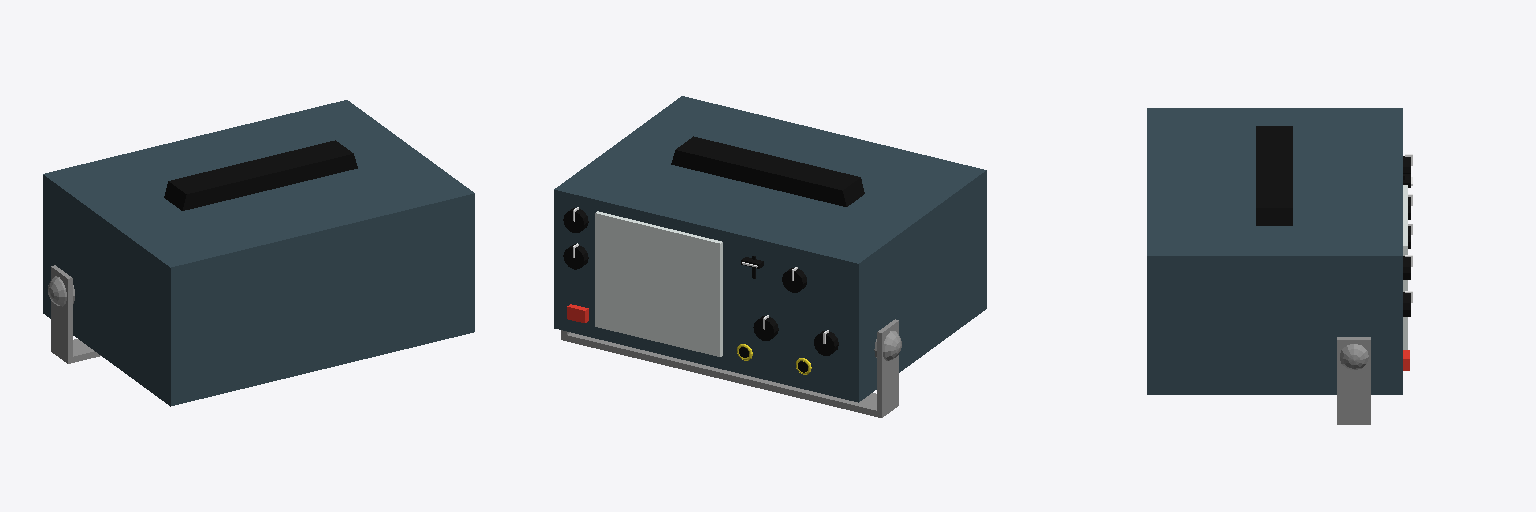
The picture shows the model from 3 angles: view 1: azimuth 30°, elevation 25°; view 2: azimuth 150°, elevation 25°; view 3: azimuth 270°, elevation 25°; orthographic projection.
Parts seen in each view (by area): view 1: group[number redacted], group[number redacted], group[number redacted]; view 2: group[number redacted], group[number redacted], group[number redacted], group[number redacted], group[number redacted]; view 3: group[number redacted], group[number redacted], group[number redacted], group[number redacted], group[number redacted].
Boxes of the visible parts, <box> form: group[number redacted]: <box>43,100,474,406</box>; group[number redacted]: <box>164,140,357,210</box>; group[number redacted]: <box>51,265,72,363</box>; group[number redacted]: <box>554,96,986,402</box>; group[number redacted]: <box>595,211,722,356</box>; group[number redacted]: <box>671,136,864,206</box>; group[number redacted]: <box>567,332,876,416</box>; group[number redacted]: <box>877,319,898,417</box>; group[number redacted]: <box>1147,108,1402,394</box>; group[number redacted]: <box>1256,126,1292,225</box>; group[number redacted]: <box>1337,337,1370,424</box>; group[number redacted]: <box>1340,344,1368,369</box>; group[number redacted]: <box>1403,185,1407,349</box>.
Size of the model in its own units: 2.24 by 1.14 by 1.53.